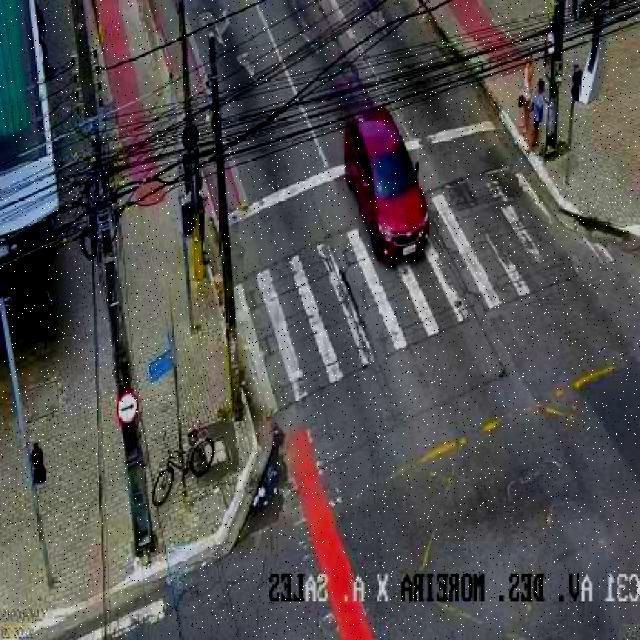Car: (340, 105, 432, 264)
Cycle: (150, 428, 217, 506)
